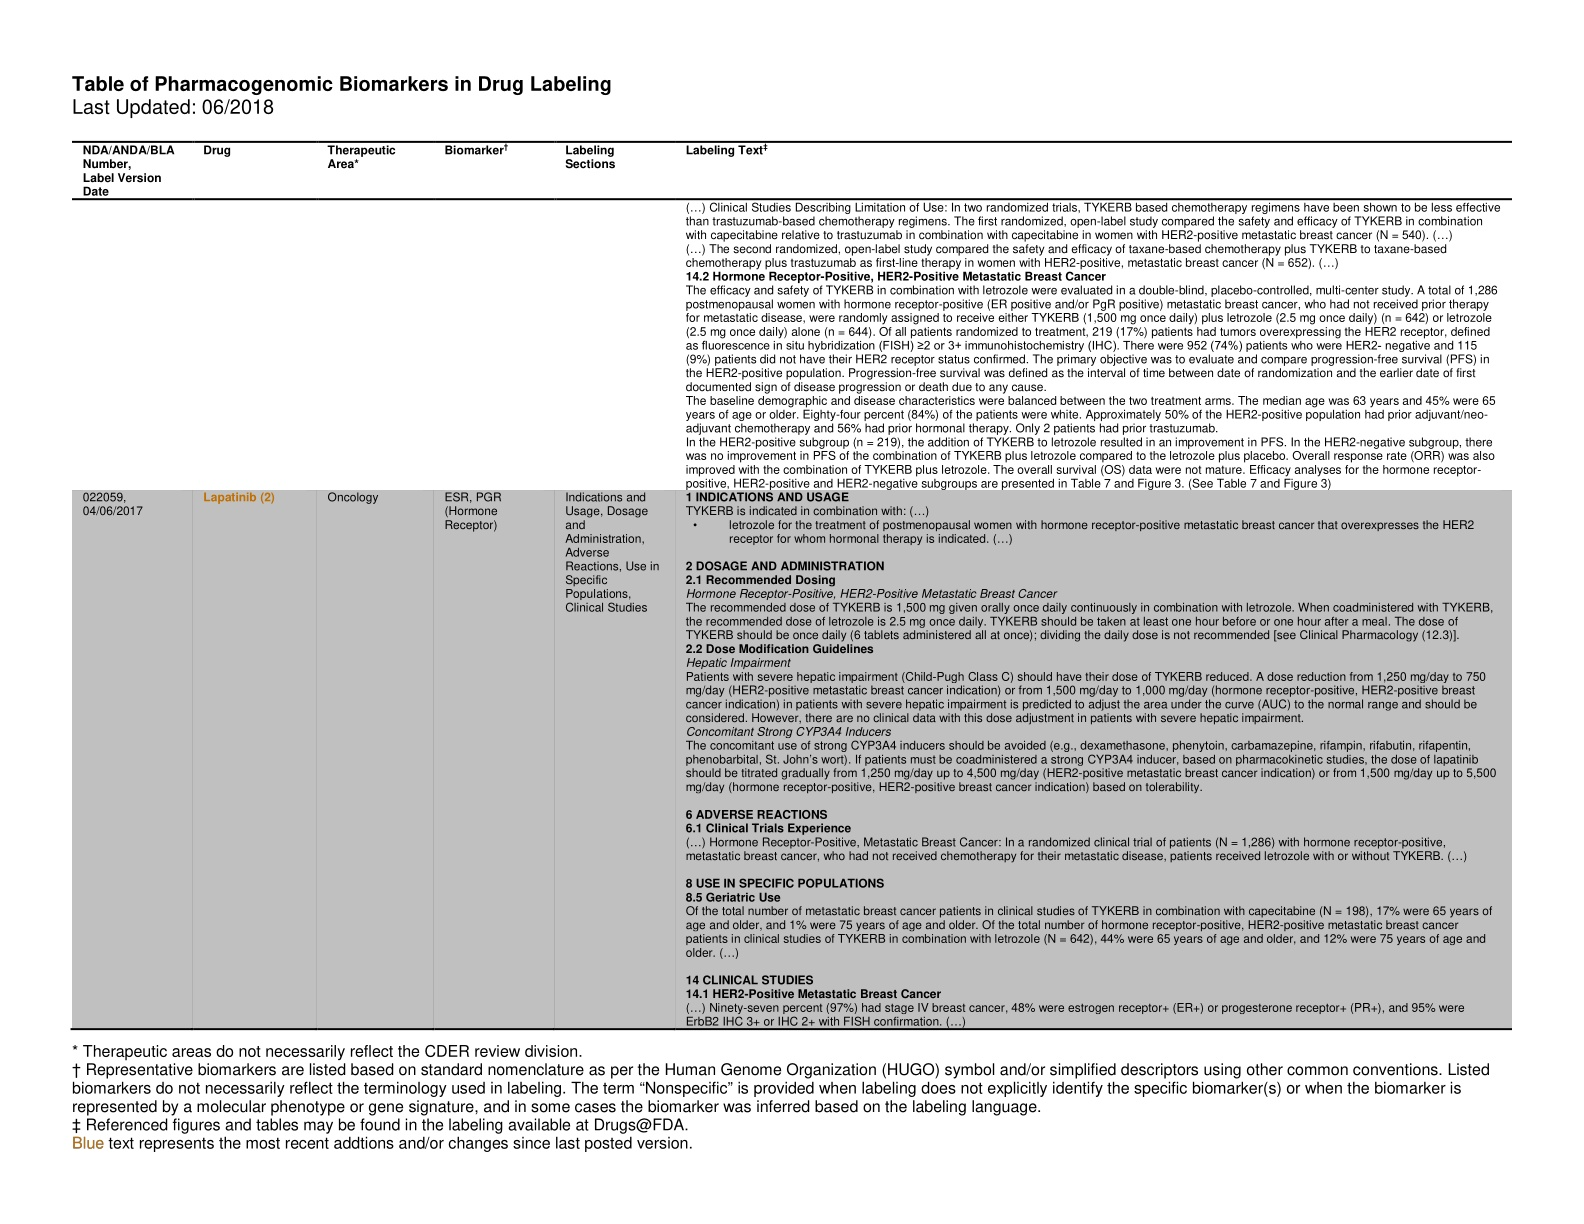partial_lined: (69, 136, 1527, 1039)
